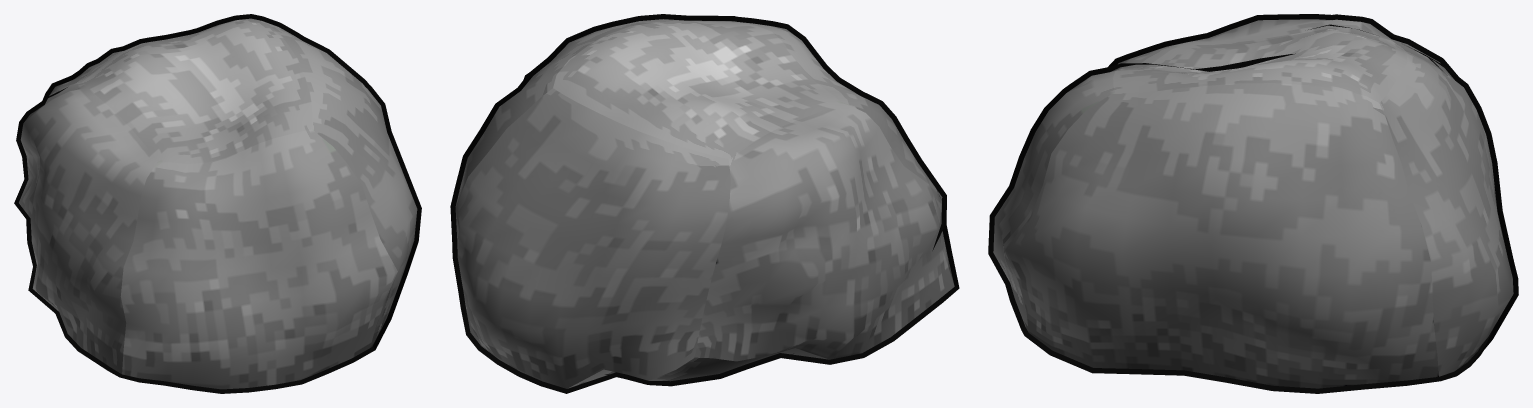
File: stone3 no moss.fbx
The picture shows the model from 3 angles, left to right: view 1: azimuth 30°, elevation 25°; view 2: azimuth 150°, elevation 25°; view 3: azimuth 270°, elevation 25°; orthographic projection. The views are drawn at different scales.
Parts seen in each view (by area): view 1: Stone3 WO Moss, OT Stone004; view 2: Stone3 WO Moss, OT Stone004; view 3: Stone3 WO Moss, OT Stone004.
Part boxes in pixels (box(x1,y1,x2,y2)): Stone3 WO Moss: box(19, 18, 417, 389); OT Stone004: box(14, 14, 421, 393); Stone3 WO Moss: box(455, 19, 954, 388); OT Stone004: box(450, 14, 959, 393); Stone3 WO Moss: box(993, 19, 1513, 388); OT Stone004: box(988, 14, 1518, 393).
Bounding box in the file's own units: 38.06 × 27.27 × 43.75.
2 materials, 1 textured.
